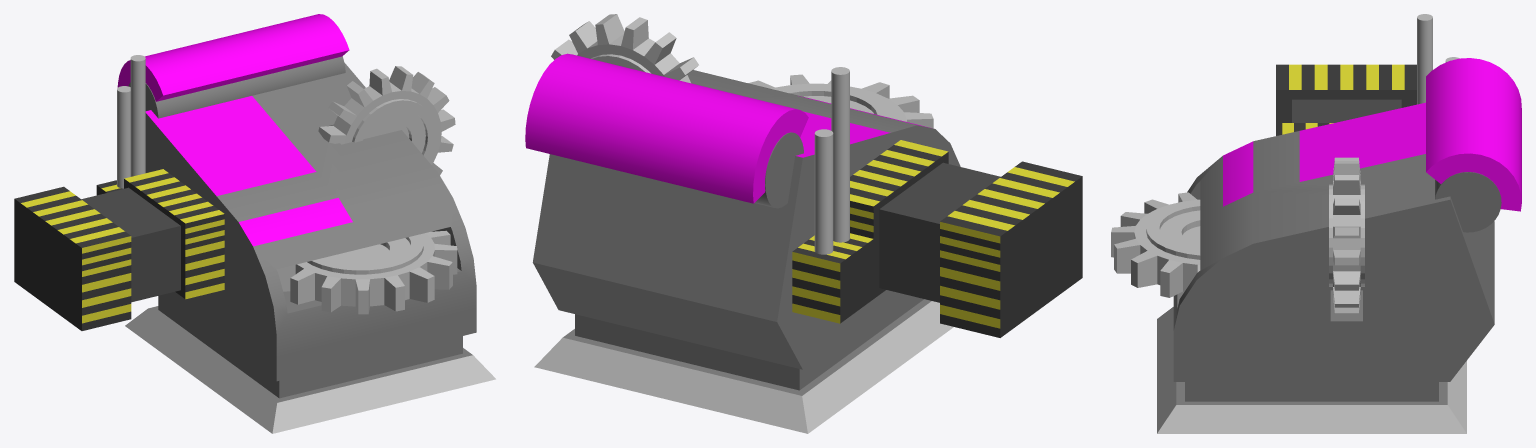
Rendered from MachineShop.fbx.
The picture shows the model from 3 angles, left to right: view 1: azimuth 30°, elevation 25°; view 2: azimuth 150°, elevation 25°; view 3: azimuth 270°, elevation 25°; orthographic projection. The views are drawn at different scales.
Parts seen in each view (by area): view 1: Cube.060, Cube.059, Cylinder.073, Cylinder.069, Cylinder.072, Cylinder.068, Cylinder.070; view 2: Cube.060, Cube.059, Cylinder.069, Cylinder.070, Cylinder.072, Cylinder.073, Cylinder.068; view 3: Cube.060, Cylinder.069, Cube.059, Cylinder.073, Cylinder.072, Cylinder.068, Cylinder.070.
Boxes of the visible parts, <box> form: Cube.060: <box>125,62,495,433</box>; Cube.059: <box>14,169,224,330</box>; Cylinder.073: <box>277,230,457,314</box>; Cylinder.069: <box>117,14,349,101</box>; Cylinder.072: <box>318,66,455,175</box>; Cylinder.068: <box>128,56,345,118</box>; Cylinder.070: <box>117,55,145,188</box>; Cube.060: <box>532,70,960,433</box>; Cube.059: <box>792,140,1082,337</box>; Cylinder.069: <box>525,53,808,203</box>; Cylinder.070: <box>814,67,849,254</box>; Cylinder.072: <box>551,14,698,83</box>; Cylinder.073: <box>748,74,933,128</box>; Cylinder.068: <box>755,132,803,208</box>; Cube.060: <box>1157,102,1494,433</box>; Cylinder.069: <box>1426,58,1521,211</box>; Cube.059: <box>1276,64,1416,135</box>; Cylinder.073: <box>1111,192,1200,297</box>; Cylinder.072: <box>1329,157,1364,313</box>; Cylinder.068: <box>1435,172,1501,232</box>; Cylinder.070: <box>1417,14,1459,104</box>.
Bounding box in the file's own units: 240 × 162 × 202.
